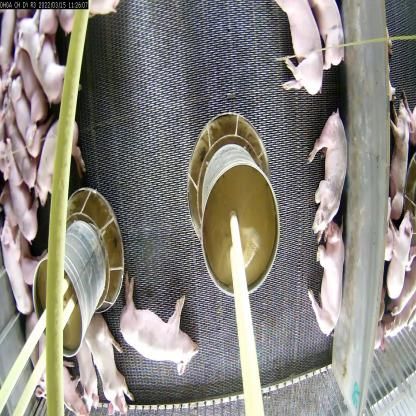Pig: (116, 264, 209, 385), (264, 0, 326, 104), (306, 96, 348, 244), (16, 12, 76, 103), (88, 311, 137, 415), (309, 219, 344, 349), (0, 141, 42, 244), (36, 120, 82, 210), (307, 0, 356, 82), (0, 226, 32, 342), (0, 67, 38, 152), (67, 342, 100, 415)
